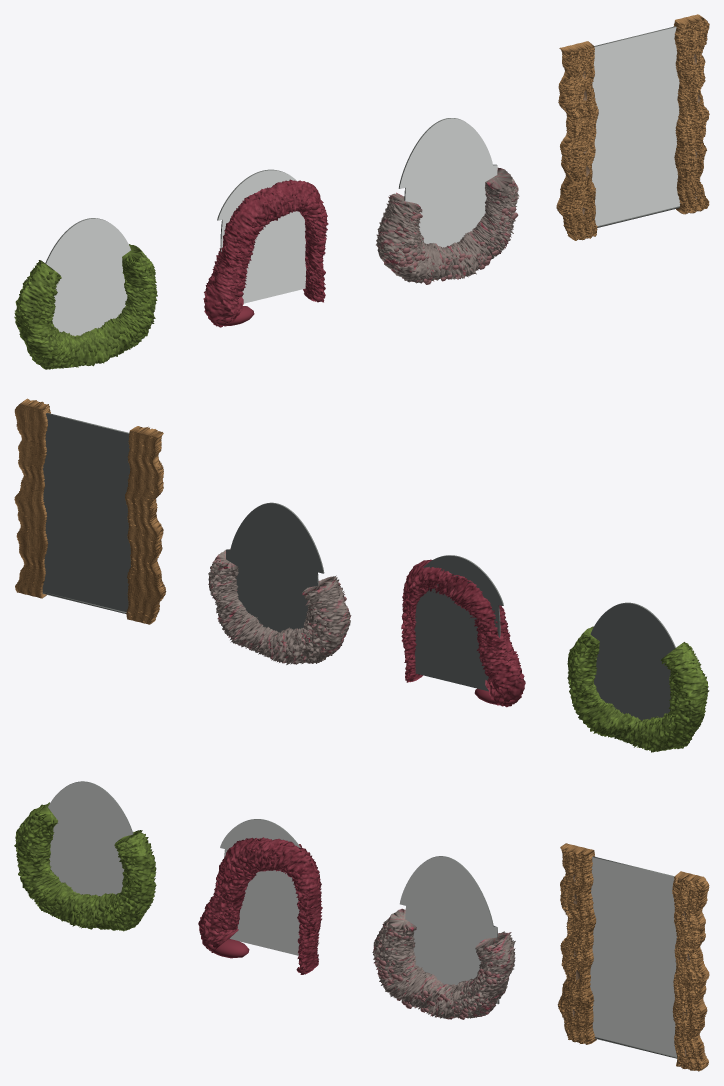
The model's file is mirrors.glb.
3 renders of one model, top to bottom at view 1: azimuth 30°, elevation 25°; view 2: azimuth 150°, elevation 25°; view 3: azimuth 330°, elevation 25°, orthographic.
Parts seen in each view (by area): view 1: Mirror_04_Live_Edge_Timber__Mirror_Front_True_Metallic, Mirror_03_Gray_Pink_Rock_Horseshoe__Mirror_Front_True_Metall, Mirror_01_Olive_Green_Organic_Ring__Hand_Modulated_Solid_Oli, Mirror_02_Burgundy_Organic_Arch__Wide_Irregular_Burgundy_Arc, Mirror_03_Gray_Pink_Rock_Horseshoe__Rough_Gray_Raspberry_Roc, Mirror_01_Olive_Green_Organic_Ring__Mirror_Front_True_Metall, Mirror_04_Live_Edge_Timber__LEFT_Live_Edge_Slab_Bark_and_Woo, Mirror_02_Burgundy_Organic_Arch__Mirror_Front_True_Metallic, Mirror_04_Live_Edge_Timber__RIGHT_Live_Edge_Slab_Bark_and_Wo, Mirror_03_Gray_Pink_Rock_Horseshoe__Lumpy_Stony_Outer_Chips, Mirror_02_Burgundy_Organic_Arch__Sculpted_Plasters_And_Chips, Mirror_01_Olive_Green_Organic_Ring__Natural_Stone_Bumps; view 2: Mirror_04_Live_Edge_Timber__Mirror_Back, Mirror_03_Gray_Pink_Rock_Horseshoe__Mirror_Back, Mirror_01_Olive_Green_Organic_Ring__Hand_Modulated_Solid_Oli, Mirror_01_Olive_Green_Organic_Ring__Mirror_Back, Mirror_03_Gray_Pink_Rock_Horseshoe__Rough_Gray_Raspberry_Roc, Mirror_02_Burgundy_Organic_Arch__Mirror_Back, Mirror_02_Burgundy_Organic_Arch__Wide_Irregular_Burgundy_Arc, Mirror_04_Live_Edge_Timber__LEFT_Live_Edge_Slab_Bark_and_Woo, Mirror_04_Live_Edge_Timber__RIGHT_Live_Edge_Slab_Bark_and_Wo; view 3: Mirror_04_Live_Edge_Timber__Mirror_Front_True_Metallic, Mirror_03_Gray_Pink_Rock_Horseshoe__Mirror_Front_True_Metall, Mirror_01_Olive_Green_Organic_Ring__Hand_Modulated_Solid_Oli, Mirror_03_Gray_Pink_Rock_Horseshoe__Rough_Gray_Raspberry_Roc, Mirror_01_Olive_Green_Organic_Ring__Mirror_Front_True_Metall, Mirror_02_Burgundy_Organic_Arch__Wide_Irregular_Burgundy_Arc, Mirror_04_Live_Edge_Timber__RIGHT_Live_Edge_Slab_Bark_and_Wo, Mirror_04_Live_Edge_Timber__LEFT_Live_Edge_Slab_Bark_and_Woo, Mirror_02_Burgundy_Organic_Arch__Mirror_Front_True_Metallic, Mirror_03_Gray_Pink_Rock_Horseshoe__Lumpy_Stony_Outer_Chips, Mirror_02_Burgundy_Organic_Arch__Sculpted_Plasters_And_Chips, Mirror_01_Olive_Green_Organic_Ring__Natural_Stone_Bumps (+1 smaller).
Part boxes in pixels (x1,y1,x2,y2): Mirror_04_Live_Edge_Timber__Mirror_Front_True_Metallic: (591, 27, 680, 225); Mirror_03_Gray_Pink_Rock_Horseshoe__Mirror_Front_True_Metall: (399, 118, 497, 247); Mirror_01_Olive_Green_Organic_Ring__Hand_Modulated_Solid_Oli: (14, 244, 157, 369); Mirror_02_Burgundy_Organic_Arch__Wide_Irregular_Burgundy_Arc: (203, 179, 328, 327); Mirror_03_Gray_Pink_Rock_Horseshoe__Rough_Gray_Raspberry_Roc: (376, 167, 519, 283); Mirror_01_Olive_Green_Organic_Ring__Mirror_Front_True_Metall: (46, 218, 130, 336); Mirror_04_Live_Edge_Timber__LEFT_Live_Edge_Slab_Bark_and_Woo: (556, 41, 598, 240); Mirror_02_Burgundy_Organic_Arch__Mirror_Front_True_Metallic: (218, 170, 306, 303); Mirror_04_Live_Edge_Timber__RIGHT_Live_Edge_Slab_Bark_and_Wo: (673, 14, 709, 214); Mirror_03_Gray_Pink_Rock_Horseshoe__Lumpy_Stony_Outer_Chips: (394, 181, 518, 284); Mirror_02_Burgundy_Organic_Arch__Sculpted_Plasters_And_Chips: (215, 192, 326, 323); Mirror_01_Olive_Green_Organic_Ring__Natural_Stone_Bumps: (32, 256, 157, 366); Mirror_04_Live_Edge_Timber__Mirror_Back: (42, 413, 130, 612); Mirror_03_Gray_Pink_Rock_Horseshoe__Mirror_Back: (226, 503, 323, 632); Mirror_01_Olive_Green_Organic_Ring__Hand_Modulated_Solid_Oli: (567, 626, 709, 752); Mirror_01_Olive_Green_Organic_Ring__Mirror_Back: (590, 603, 674, 720); Mirror_03_Gray_Pink_Rock_Horseshoe__Rough_Gray_Raspberry_Roc: (208, 548, 351, 664); Mirror_02_Burgundy_Organic_Arch__Mirror_Back: (414, 555, 502, 691); Mirror_02_Burgundy_Organic_Arch__Wide_Irregular_Burgundy_Arc: (401, 559, 525, 707); Mirror_04_Live_Edge_Timber__LEFT_Live_Edge_Slab_Bark_and_Woo: (125, 426, 166, 624); Mirror_04_Live_Edge_Timber__RIGHT_Live_Edge_Slab_Bark_and_Wo: (14, 398, 50, 598); Mirror_04_Live_Edge_Timber__Mirror_Front_True_Metallic: (590, 857, 677, 1056); Mirror_03_Gray_Pink_Rock_Horseshoe__Mirror_Front_True_Metall: (399, 856, 498, 1003); Mirror_01_Olive_Green_Organic_Ring__Hand_Modulated_Solid_Oli: (14, 802, 156, 931); Mirror_03_Gray_Pink_Rock_Horseshoe__Rough_Gray_Raspberry_Roc: (372, 908, 515, 1018); Mirror_01_Olive_Green_Organic_Ring__Mirror_Front_True_Metall: (48, 782, 132, 896); Mirror_02_Burgundy_Organic_Arch__Wide_Irregular_Burgundy_Arc: (198, 837, 322, 974); Mirror_04_Live_Edge_Timber__RIGHT_Live_Edge_Slab_Bark_and_Wo: (672, 871, 709, 1071); Mirror_04_Live_Edge_Timber__LEFT_Live_Edge_Slab_Bark_and_Woo: (557, 843, 596, 1044); Mirror_02_Burgundy_Organic_Arch__Mirror_Front_True_Metallic: (220, 819, 299, 955); Mirror_03_Gray_Pink_Rock_Horseshoe__Lumpy_Stony_Outer_Chips: (374, 925, 498, 1019); Mirror_02_Burgundy_Organic_Arch__Sculpted_Plasters_And_Chips: (199, 847, 308, 972); Mirror_01_Olive_Green_Organic_Ring__Natural_Stone_Bumps: (17, 812, 141, 929).
Bounding box in the file's own units: 9.02 × 2.4 × 0.7336.
8 materials, 4 textured.
